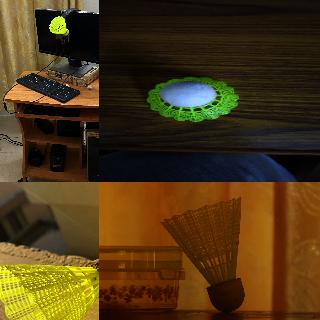shuttlecock: (160, 198, 244, 310), (0, 257, 98, 319), (145, 76, 237, 122), (50, 15, 68, 35)
